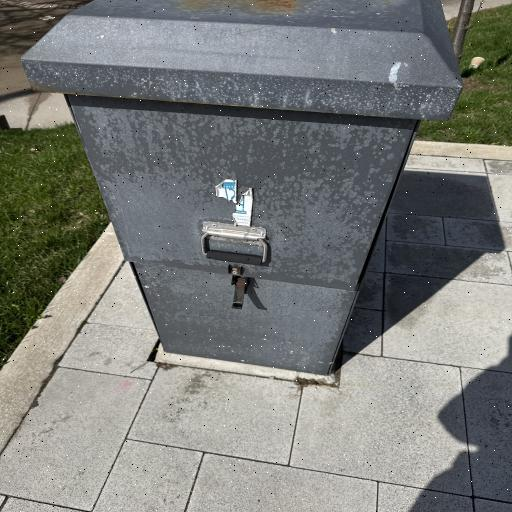Electrical Box: (21, 1, 465, 375)
